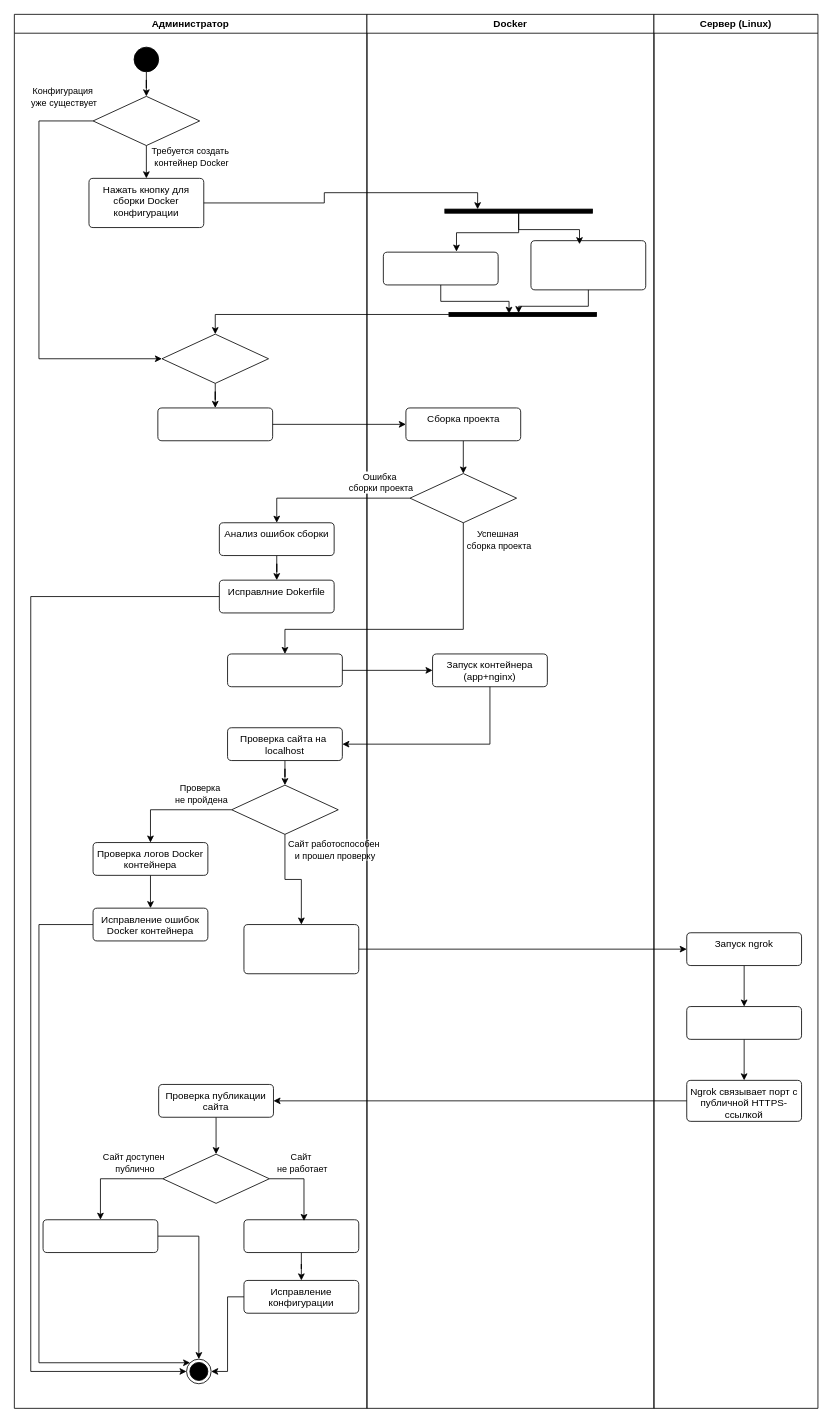
Image size: 832x1423. Some labels were removed from this diagram. The shapes that lost their labels are listed below. From the top down, each one's centre as x and y in pixels, then its label:
[440,268]: Создание Dockerfile
[588,265]: Создание docker-compose.yml на основе данных проекта
[215,424]: Выполнение команды docker-compose build
[284,670]: Выполнение команды docker-compose up -d
[301,949]: Запуск сервера и открытие порта 8000 с помощью ngrok
[744,1022]: Ngrok создает безопастный тунель
[100,1236]: Публикация завершена
[301,1236]: Проверка логов ngrok и nginx
